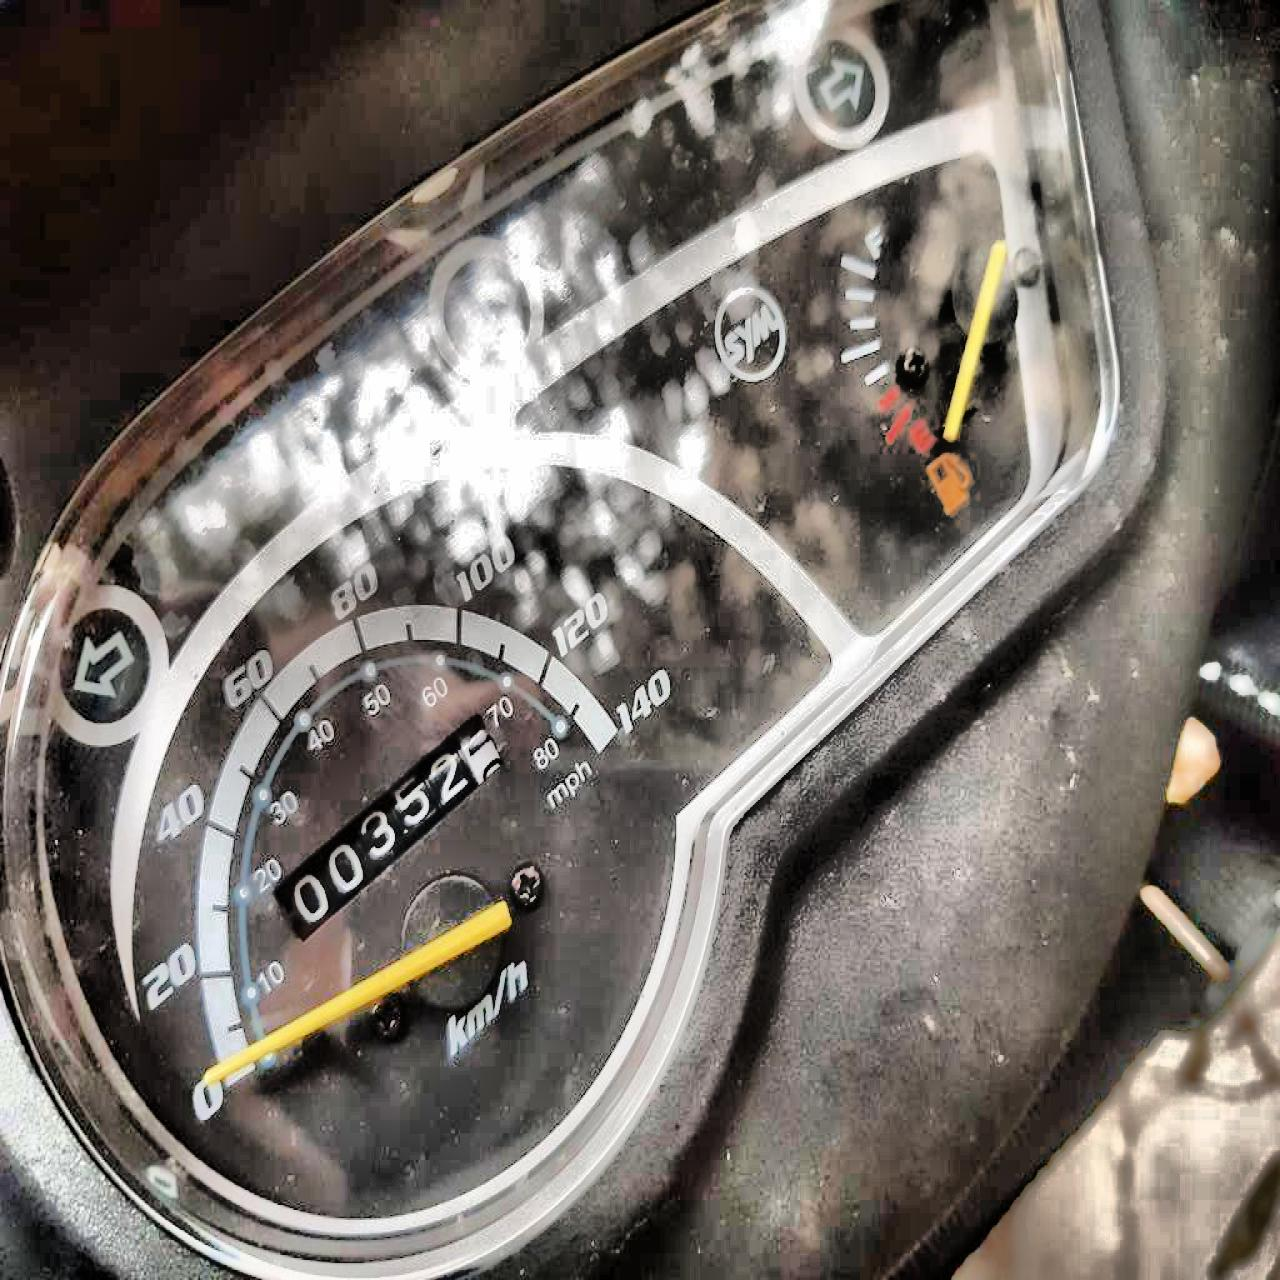0: (326, 840, 363, 892), (291, 871, 328, 921), (280, 789, 298, 813), (318, 716, 334, 741), (266, 857, 281, 880)
2: (429, 750, 468, 802), (455, 712, 490, 755)
3: (359, 809, 396, 855), (267, 798, 285, 824)
4: (306, 727, 322, 750)
5: (390, 774, 430, 824)
odometer: (266, 710, 504, 944)
